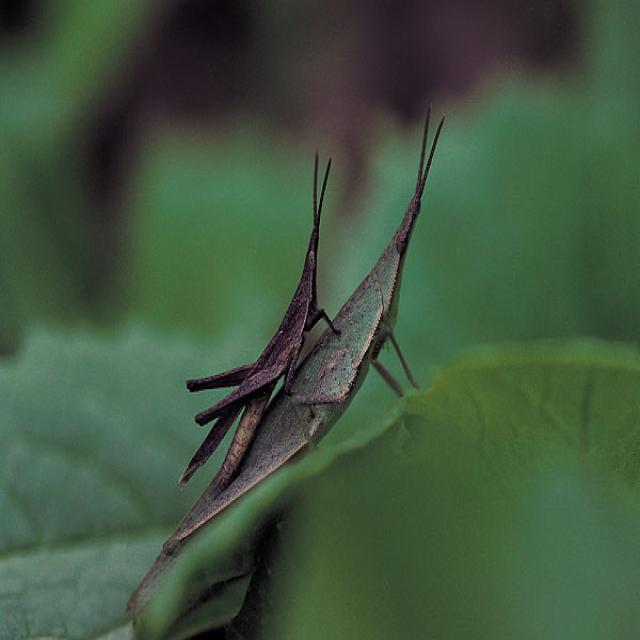ZhaMeng: (178, 171, 335, 487)
